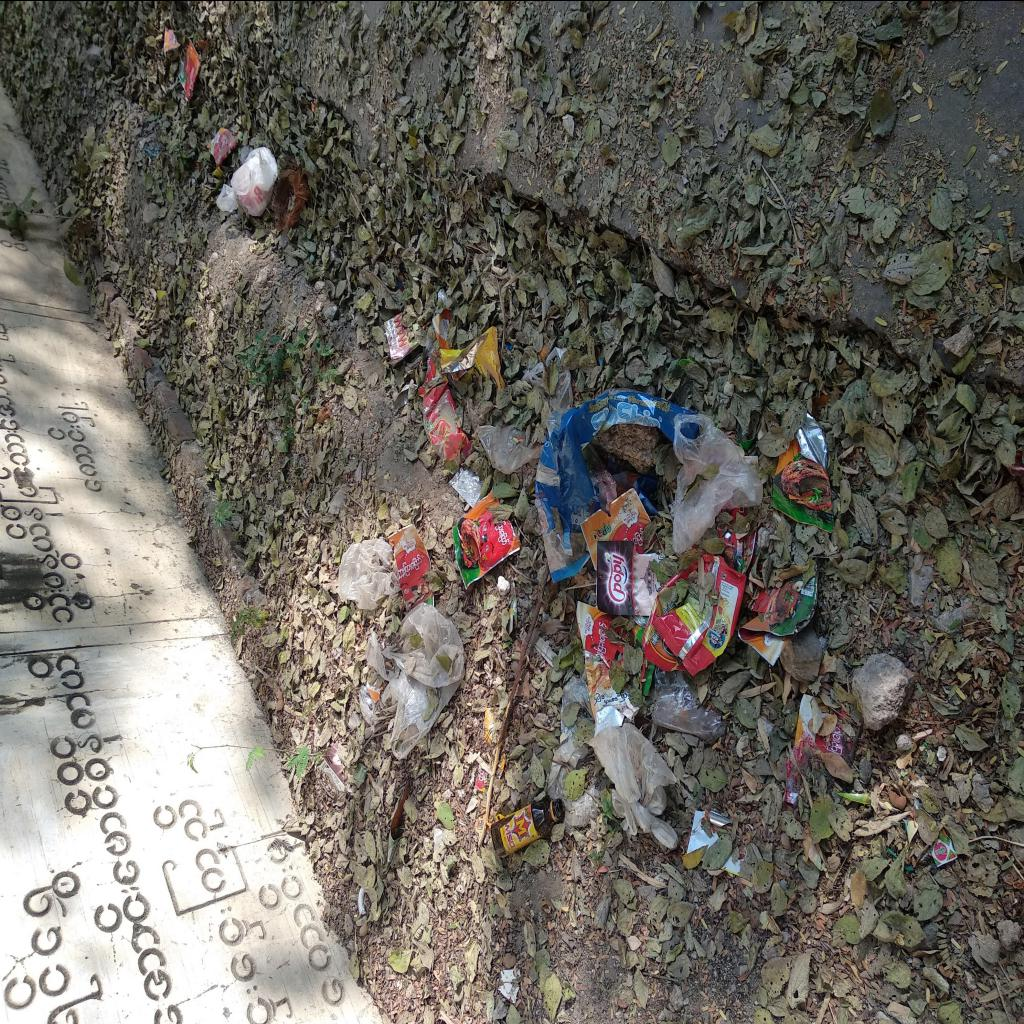Crisp packet: (653, 554, 747, 676), (642, 560, 698, 672)
Other plastic: (718, 506, 820, 666), (772, 409, 834, 531), (577, 601, 639, 719), (452, 491, 520, 589), (580, 486, 659, 570), (417, 349, 473, 463), (596, 540, 664, 614), (440, 324, 507, 392), (795, 695, 857, 762), (388, 522, 434, 612), (686, 808, 746, 876), (432, 304, 468, 380), (476, 706, 506, 792), (614, 471, 662, 515), (384, 311, 418, 362), (178, 38, 200, 100), (208, 126, 238, 168), (930, 827, 960, 866), (323, 738, 346, 788), (594, 706, 622, 735), (563, 675, 591, 703), (534, 636, 556, 666), (164, 28, 178, 60)
Other plastic container: (490, 796, 562, 857)
Plastic film: (534, 388, 698, 582), (360, 600, 466, 760), (669, 412, 763, 552), (588, 721, 678, 847), (653, 666, 725, 744), (338, 538, 400, 610), (216, 146, 278, 216), (546, 741, 596, 825), (520, 347, 574, 407), (478, 425, 542, 473), (784, 732, 822, 802)
Unlabeled litter: (448, 462, 484, 508)
